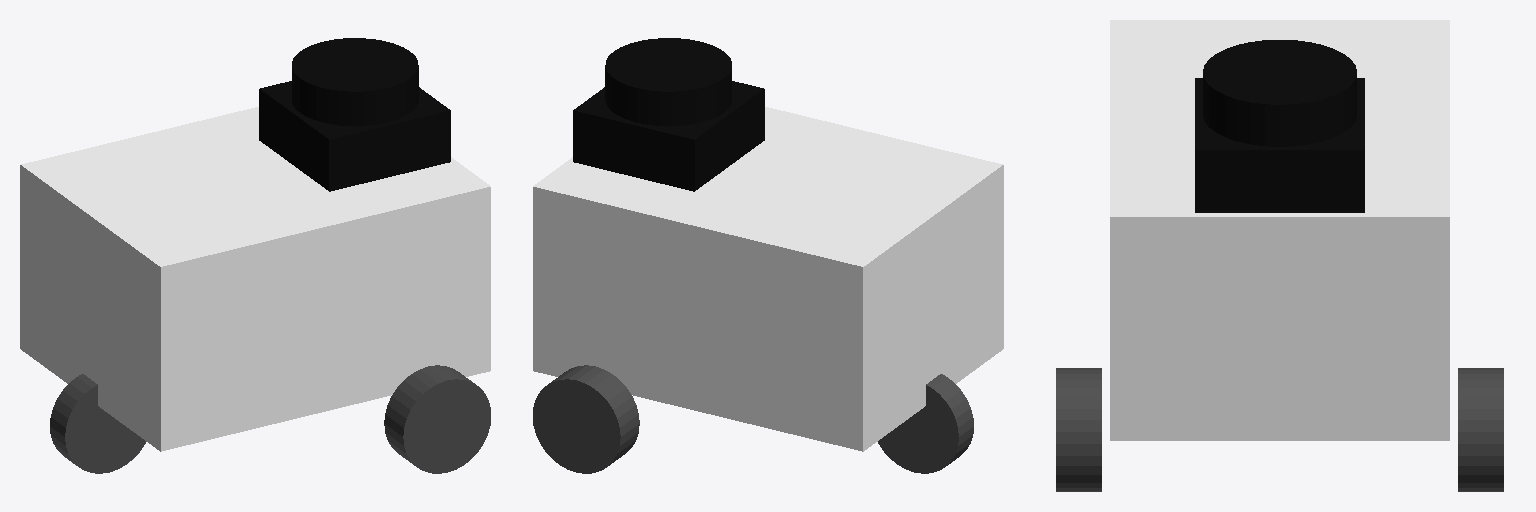
URDF robot description (mcub):
<?xml version="1.0" ?>
<!-- =================================================================================== -->
<!-- |    This document was autogenerated by xacro from /home/cub/colcon_ws/src/cub/mcub_bringup/urdf/mcub.urdf.xacro | -->
<!-- |    EDITING THIS FILE BY HAND IS NOT RECOMMENDED                                 | -->
<!-- =================================================================================== -->
<robot name="mcub">
  <!--
    mCub simulation model template.

    Coordinate convention:
      x: forward, y: left, z: up
      base_link: kept at the same height as the existing cub_description/mcub.urdf

    Confirmed from cub_description/urdf/mcub.urdf:
      drive wheel diameter: 0.040 m
      displayed axle/tread span: 0.130 m (used provisionally as wheel track)

    NOTE(INPUT): wheel_odometry.cpp and control_mcub_moter_node.cpp use 0.125 m
    as the drive-wheel center-to-center distance.  Confirm whether the simulation
    track should be 0.130 m (description model) or 0.125 m (control model).

    TODO(INPUT): Replace the provisional values below with measured/CAD values.
      - base_mass, base_cog_*, and base inertia
      - wheel_width, wheel_mass, wheel inertia, effort, and velocity limits
      - caster pivot position, trail, wheel size, masses, and inertias
      - SLC1_link position, especially lidar_scan_z (actual scan-plane height)

    Generate plain URDF before importing into Unity:
      xacro mcub.urdf.xacro -o mcub.urdf
  -->
  <material name="mcub_white">
    <color rgba="1 1 1 1"/>
  </material>
  <material name="mcub_gray">
    <color rgba="0.35 0.35 0.35 1"/>
  </material>
  <material name="mcub_black">
    <color rgba="0.08 0.08 0.08 1"/>
  </material>
  <link name="base_link">
    <inertial>
      <origin rpy="0 0 0" xyz="-0.045 0.0 0.07"/>
      <mass value="1.0"/>
      <inertia ixx="0.002" ixy="0.0" ixz="0.0" iyy="0.003" iyz="0.0" izz="0.004"/>
    </inertial>
    <visual>
      <origin rpy="0 0 0" xyz="-0.045 0 0.07"/>
      <geometry>
        <box size="0.15 0.11 0.08"/>
      </geometry>
      <material name="mcub_white"/>
    </visual>
    <collision>
      <origin rpy="0 0 0" xyz="-0.045 0 0.07"/>
      <geometry>
        <box size="0.15 0.11 0.08"/>
      </geometry>
    </collision>
  </link>
  <joint name="base_to_footprint" type="fixed">
    <parent link="base_link"/>
    <child link="base_footprint"/>
    <origin rpy="0 0 0" xyz="0 0 0"/>
  </joint>
  <link name="base_footprint"/>
  <joint name="left_wheel_joint" type="continuous">
    <parent link="base_link"/>
    <child link="left_wheel_link"/>
    <origin rpy="0 0 0" xyz="0.0 0.065 0.02"/>
    <axis xyz="0 1 0"/>
    <limit effort="1.0" velocity="20.0"/>
    <dynamics damping="0.01" friction="0.01"/>
  </joint>
  <link name="left_wheel_link">
    <inertial>
      <mass value="0.05"/>
      <inertia ixx="1.2e-05" ixy="0" ixz="0" iyy="1e-05" iyz="0" izz="1.2e-05"/>
    </inertial>
    <visual>
      <origin rpy="1.5707963267948966 0 0"/>
      <geometry>
        <cylinder length="0.015" radius="0.02"/>
      </geometry>
      <material name="mcub_gray"/>
    </visual>
    <collision>
      <origin rpy="1.5707963267948966 0 0"/>
      <geometry>
        <cylinder length="0.015" radius="0.02"/>
      </geometry>
    </collision>
  </link>
  <joint name="right_wheel_joint" type="continuous">
    <parent link="base_link"/>
    <child link="right_wheel_link"/>
    <origin rpy="0 0 0" xyz="0.0 -0.065 0.02"/>
    <axis xyz="0 1 0"/>
    <limit effort="1.0" velocity="20.0"/>
    <dynamics damping="0.01" friction="0.01"/>
  </joint>
  <link name="right_wheel_link">
    <inertial>
      <mass value="0.05"/>
      <inertia ixx="1.2e-05" ixy="0" ixz="0" iyy="1e-05" iyz="0" izz="1.2e-05"/>
    </inertial>
    <visual>
      <origin rpy="1.5707963267948966 0 0"/>
      <geometry>
        <cylinder length="0.015" radius="0.02"/>
      </geometry>
      <material name="mcub_gray"/>
    </visual>
    <collision>
      <origin rpy="1.5707963267948966 0 0"/>
      <geometry>
        <cylinder length="0.015" radius="0.02"/>
      </geometry>
    </collision>
  </link>
  <!-- Passive trailing caster: free swivel about z plus free wheel rotation about y. -->
  <joint name="caster_swivel_joint" type="continuous">
    <parent link="base_link"/>
    <child link="caster_swivel_link"/>
    <origin rpy="0 0 0" xyz="-0.1 0 0.04"/>
    <axis xyz="0 0 1"/>
    <limit effort="0.1" velocity="30.0"/>
    <dynamics damping="0.02" friction="0.0"/>
  </joint>
  <link name="caster_swivel_link">
    <inertial>
      <origin rpy="0 0 0" xyz="-0.0075 0 -0.02"/>
      <mass value="0.02"/>
      <inertia ixx="1e-05" ixy="0" ixz="0" iyy="1e-05" iyz="0" izz="1e-05"/>
    </inertial>
    <visual>
      <origin rpy="0 1.5707963267948966 0" xyz="-0.0075 0 -0.02"/>
      <geometry>
        <cylinder length="0.015" radius="0.004"/>
      </geometry>
      <material name="mcub_gray"/>
    </visual>
    <collision>
      <origin rpy="0 1.5707963267948966 0" xyz="-0.0075 0 -0.02"/>
      <geometry>
        <cylinder length="0.015" radius="0.004"/>
      </geometry>
    </collision>
  </link>
  <joint name="caster_wheel_joint" type="continuous">
    <parent link="caster_swivel_link"/>
    <child link="caster_wheel_link"/>
    <origin rpy="0 0 0" xyz="-0.015 0 -0.02"/>
    <axis xyz="0 1 0"/>
    <limit effort="0.1" velocity="30.0"/>
    <dynamics damping="0.005" friction="0.0"/>
  </joint>
  <link name="caster_wheel_link">
    <inertial>
      <mass value="0.02"/>
      <inertia ixx="5e-06" ixy="0" ixz="0" iyy="4e-06" iyz="0" izz="5e-06"/>
    </inertial>
    <visual>
      <origin rpy="1.5707963267948966 0 0"/>
      <geometry>
        <cylinder length="0.012" radius="0.02"/>
      </geometry>
      <material name="mcub_gray"/>
    </visual>
    <collision>
      <origin rpy="1.5707963267948966 0 0"/>
      <geometry>
        <cylinder length="0.012" radius="0.02"/>
      </geometry>
    </collision>
  </link>
  <!-- SLC1_link is the ROS LaserScan frame and is located on the scan plane. -->
  <joint name="base_to_SLC1" type="fixed">
    <parent link="base_link"/>
    <child link="SLC1_link"/>
    <origin rpy="0 0 3.141592653589793" xyz="0.0 0.0 0.14"/>
  </joint>
  <link name="SLC1_link">
    <inertial>
      <origin rpy="0 0 0" xyz="0 0 -0.0125"/>
      <mass value="0.11"/>
      <inertia ixx="2.5e-05" ixy="0" ixz="0" iyy="2.5e-05" iyz="0" izz="5e-05"/>
    </inertial>
    <!-- The cylinder center is the LiDAR scan line/plane. -->
    <visual>
      <geometry>
        <cylinder length="0.015" radius="0.025"/>
      </geometry>
      <material name="mcub_black"/>
    </visual>
    <collision>
      <geometry>
        <cylinder length="0.015" radius="0.025"/>
      </geometry>
    </collision>
  </link>
  <!-- Preserve the SLC1_base frame used by the current RViz configuration. -->
  <joint name="SLC1_base_joint" type="fixed">
    <parent link="SLC1_link"/>
    <child link="SLC1_base"/>
    <origin rpy="0 0 0" xyz="0 0 0"/>
  </joint>
  <link name="SLC1_base">
    <visual>
      <origin rpy="0 0 0" xyz="0 0 -0.02"/>
      <geometry>
        <box size="0.055 0.055 0.025"/>
      </geometry>
      <material name="mcub_black"/>
    </visual>
    <collision>
      <origin rpy="0 0 0" xyz="0 0 -0.02"/>
      <geometry>
        <box size="0.055 0.055 0.025"/>
      </geometry>
    </collision>
  </link>
</robot>

--- What the picture shows (computed from the rendered views, not written in the file) ---
Views: 3 orthographic renders of the robot side by side, from view 1: azimuth 30°, elevation 25°; view 2: azimuth 150°, elevation 25°; view 3: azimuth 270°, elevation 25°.
Model mcub with 8 links and 7 joints (4 continuous, 3 fixed), rooted at base_link, posed every joint at zero.
Links seen in each view (by area): view 1: base_link, SLC1_base, SLC1_link, right_wheel_link, caster_wheel_link; view 2: base_link, SLC1_base, SLC1_link, left_wheel_link, caster_wheel_link; view 3: base_link, SLC1_link, SLC1_base, left_wheel_link, right_wheel_link.
Boxes of the visible links, x1,y1,x2,y2 form: base_link: (20,107,490,451); SLC1_base: (259,81,450,191); SLC1_link: (292,38,418,125); right_wheel_link: (384,365,490,473); caster_wheel_link: (50,374,145,473); base_link: (533,107,1003,451); SLC1_base: (573,81,764,191); SLC1_link: (605,38,731,125); left_wheel_link: (533,365,639,473); caster_wheel_link: (878,374,973,473); base_link: (1110,20,1449,440); SLC1_link: (1203,40,1356,146); SLC1_base: (1195,78,1364,212); left_wheel_link: (1458,368,1503,491); right_wheel_link: (1056,368,1101,491).
Bounding box of the posed robot: 0.165 × 0.145 × 0.1475 m (x, y, z).
Geometry: primitives only (box / cylinder / sphere), no mesh files.
